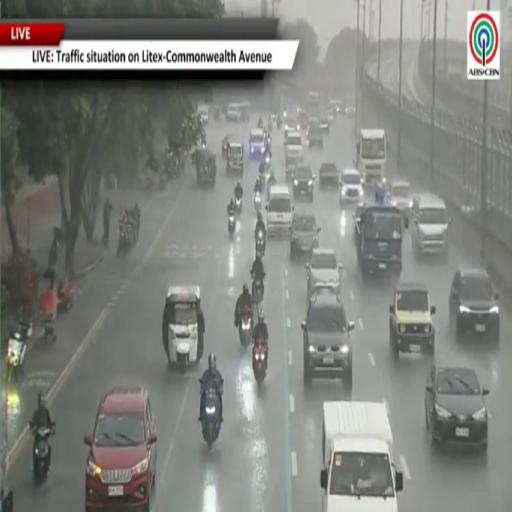car: (84, 387, 157, 511), (425, 363, 489, 451), (301, 287, 354, 387), (449, 268, 500, 342), (390, 282, 435, 360), (411, 194, 450, 257), (306, 248, 342, 299), (290, 212, 320, 259), (388, 181, 413, 228), (339, 169, 363, 206), (293, 165, 314, 201), (227, 142, 244, 175), (319, 163, 339, 187), (352, 202, 363, 242), (307, 127, 323, 148), (226, 104, 242, 122), (285, 117, 300, 135), (286, 162, 299, 180), (307, 117, 319, 135), (329, 100, 344, 114), (198, 105, 209, 124), (298, 110, 308, 130), (319, 116, 330, 134), (327, 108, 336, 123), (345, 106, 356, 117)
motorcycle: (6, 320, 32, 382), (30, 423, 55, 485), (201, 389, 221, 449), (253, 341, 266, 386), (239, 308, 253, 348), (58, 277, 74, 311), (118, 222, 135, 254), (44, 313, 56, 342), (252, 279, 263, 310), (255, 231, 265, 258), (228, 214, 235, 236), (254, 192, 261, 213), (159, 173, 167, 190), (235, 197, 242, 214), (222, 139, 228, 157), (276, 117, 282, 130), (258, 119, 263, 129), (268, 121, 272, 132)
truck: (321, 402, 403, 511), (355, 203, 403, 279), (355, 128, 388, 186)
